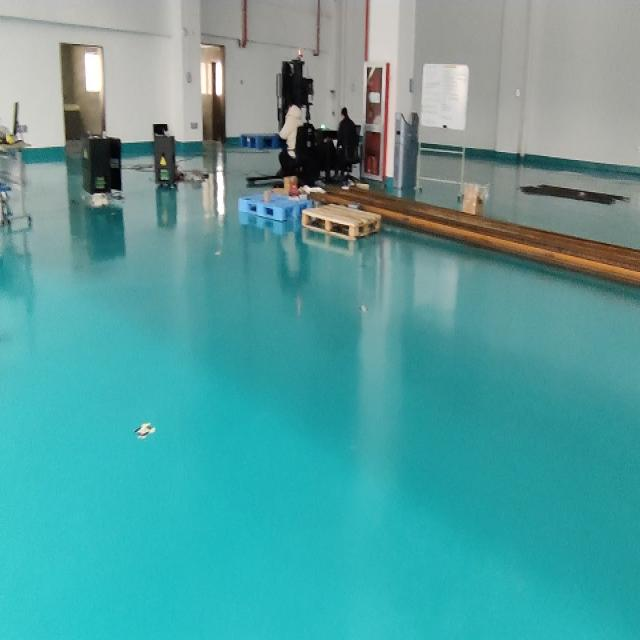euro: (302, 204, 382, 240)
